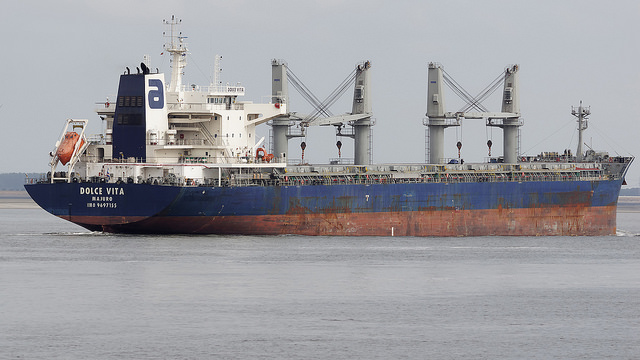bulk carrier: (23, 15, 632, 241)
